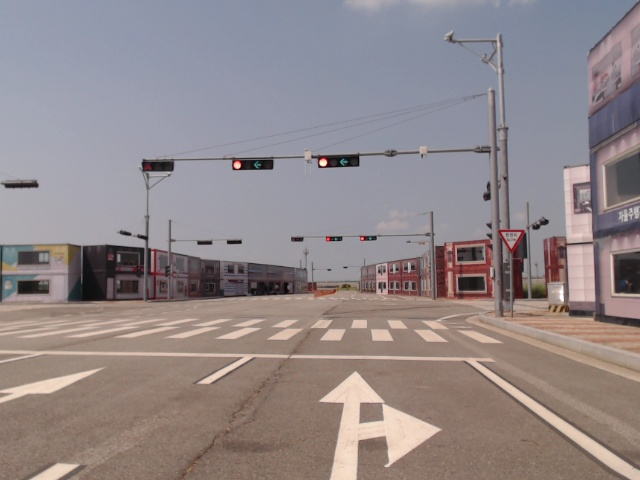left_green_4: (232, 159, 273, 170), (318, 158, 359, 167)
